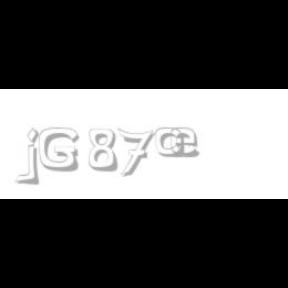7: (118, 128, 154, 178)
8: (88, 128, 118, 172)
G: (39, 128, 79, 172)
e: (171, 128, 204, 158)
j: (24, 128, 54, 186)
o: (154, 128, 184, 158)
